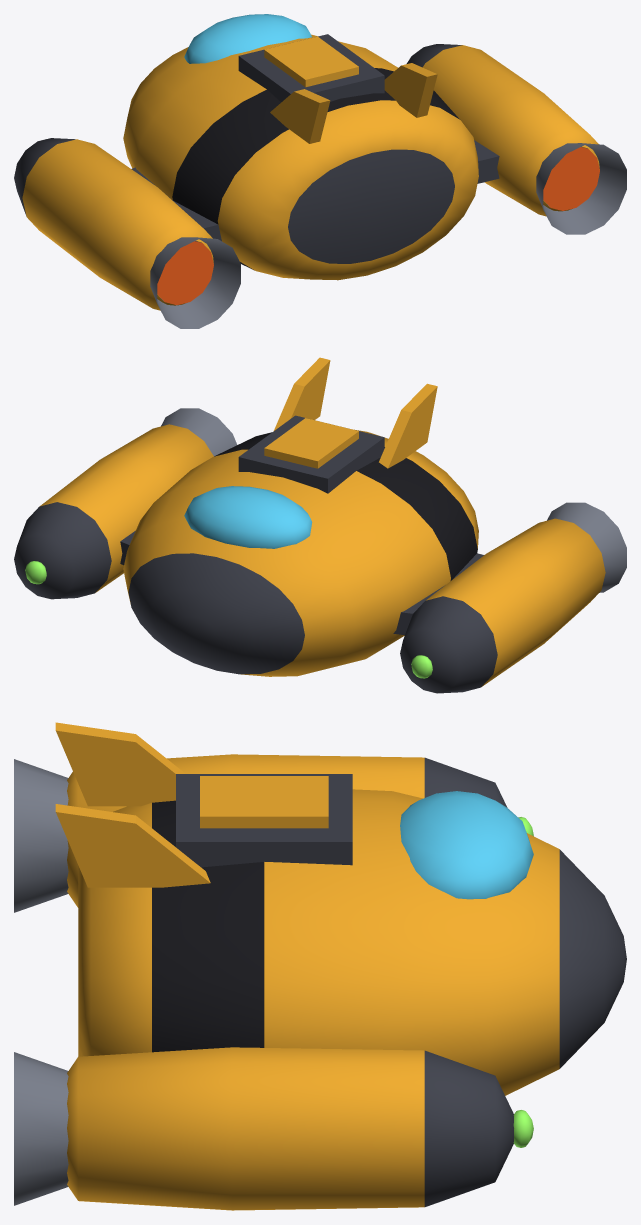
File: nave_pesada.obj
3 renders of one model, top to bottom at view 1: azimuth 30°, elevation 25°; view 2: azimuth 150°, elevation 25°; view 3: azimuth 270°, elevation 25°, orthographic. The views are drawn at different scales.
Parts seen in each view (by area): view 1: NavePesada; view 2: NavePesada; view 3: NavePesada.
Part boxes in pixels (box(x1,y1,x2,y2)): NavePesada: box(14, 14, 626, 328); NavePesada: box(14, 357, 626, 693); NavePesada: box(14, 722, 626, 1210).
Bounding box in the file's own units: 2.68 × 1.14 × 1.91.
